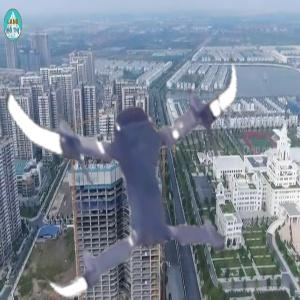drone: (2, 22, 269, 289)
